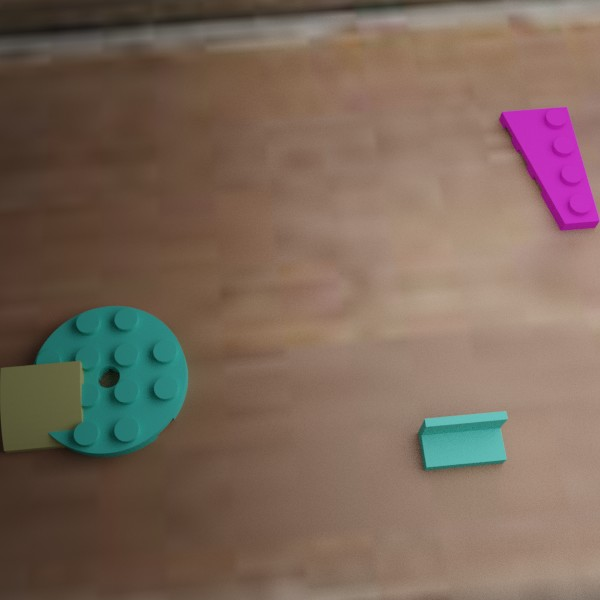lego: (30, 306, 187, 457), (498, 106, 600, 230), (0, 360, 87, 453), (418, 411, 507, 470)
